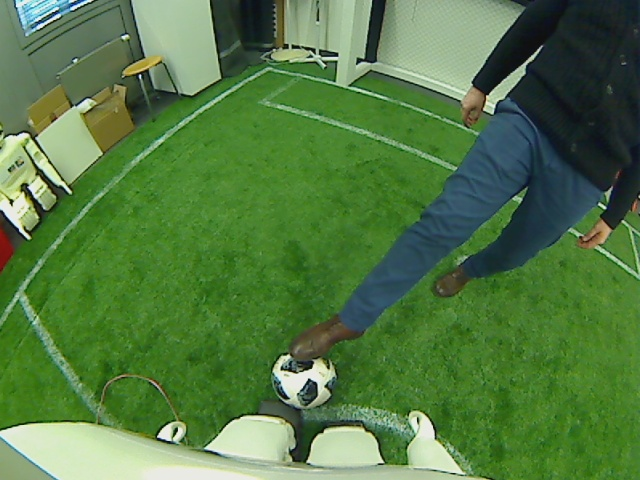ball: (271, 351, 338, 409)
